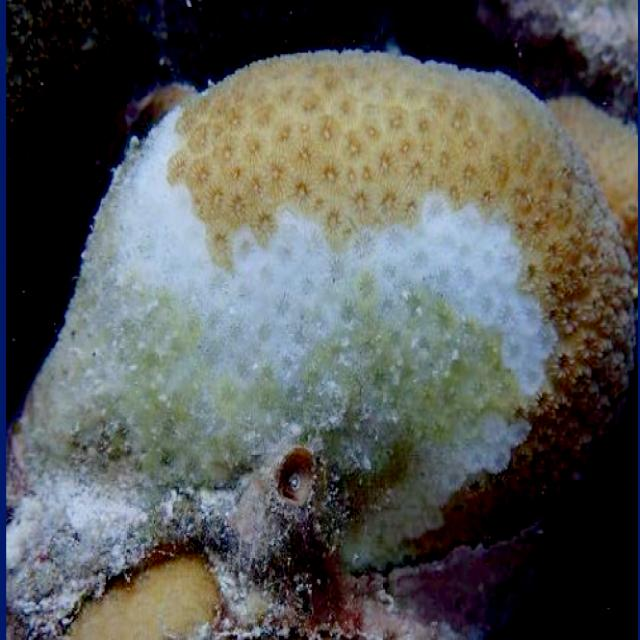Coral: (5, 47, 640, 640), (545, 96, 640, 282), (57, 553, 225, 640)
